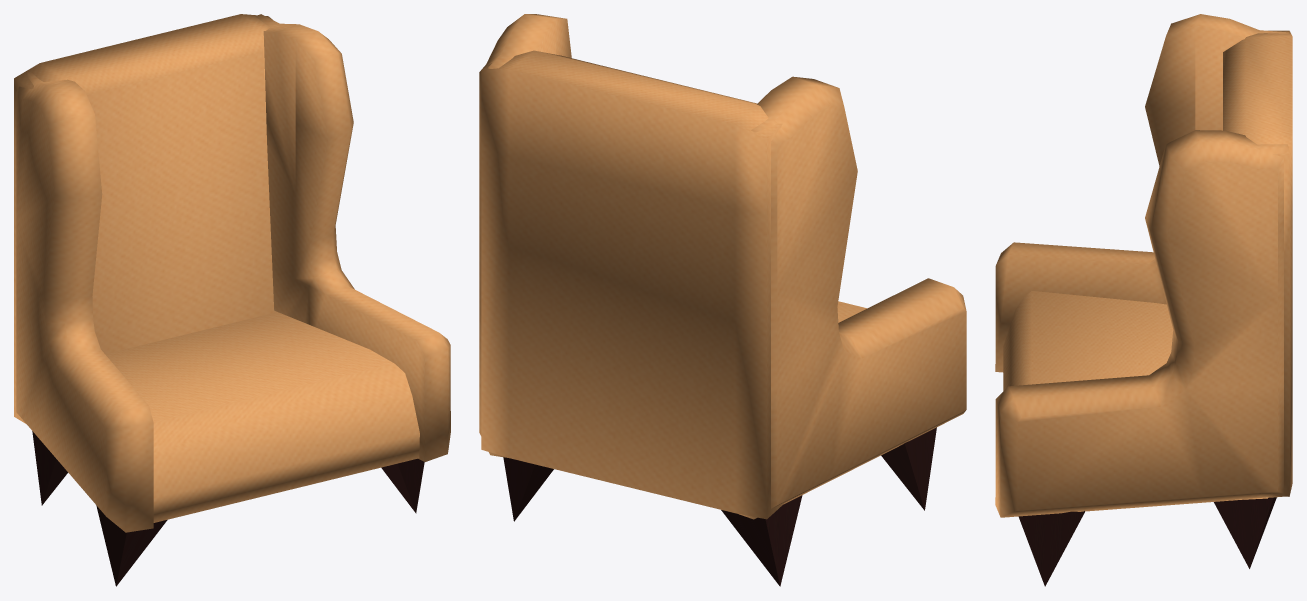
File: Winged_Armchair_D_2.FBX
3 renders of one model, left to right at view 1: azimuth 30°, elevation 25°; view 2: azimuth 150°, elevation 25°; view 3: azimuth 270°, elevation 25°, orthographic. The views are drawn at different scales.
Parts seen in each view (by area): view 1: Winged_Armchair; view 2: Winged_Armchair; view 3: Winged_Armchair.
Part boxes in pixels (bbox=[...]): Winged_Armchair: bbox=[14, 14, 450, 586]; Winged_Armchair: bbox=[479, 14, 966, 586]; Winged_Armchair: bbox=[995, 14, 1292, 586].
Bounding box in the file's own units: 174 × 208 × 129.
